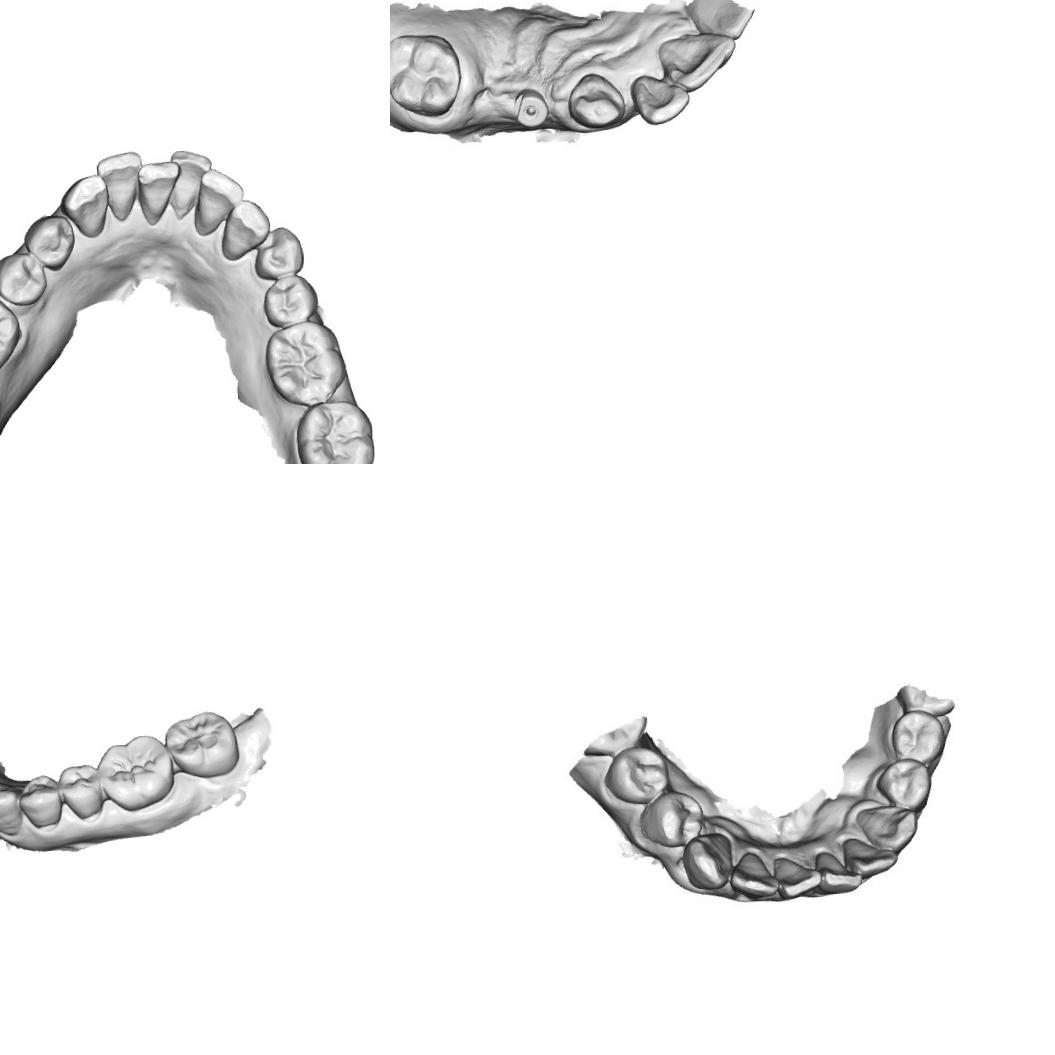canine: (216, 196, 272, 262), (567, 70, 626, 132), (61, 172, 110, 242), (858, 802, 920, 852), (683, 832, 732, 892), (0, 784, 25, 839)
implant: (511, 84, 546, 128)
incisor: (188, 166, 248, 236), (659, 30, 731, 84), (167, 146, 217, 220), (93, 150, 144, 222), (627, 68, 688, 126), (136, 158, 184, 226), (733, 842, 777, 905), (772, 852, 827, 900), (821, 844, 866, 899), (846, 832, 899, 878)
molar: (262, 318, 348, 409), (95, 730, 178, 814), (390, 29, 465, 119), (161, 706, 239, 781), (291, 396, 376, 464), (0, 287, 24, 381)
premolar: (604, 746, 670, 805), (868, 756, 932, 814), (639, 795, 701, 853), (258, 273, 320, 330), (22, 210, 76, 274), (888, 709, 948, 765), (250, 222, 305, 282), (56, 761, 107, 822), (0, 249, 50, 310), (16, 770, 65, 832)
